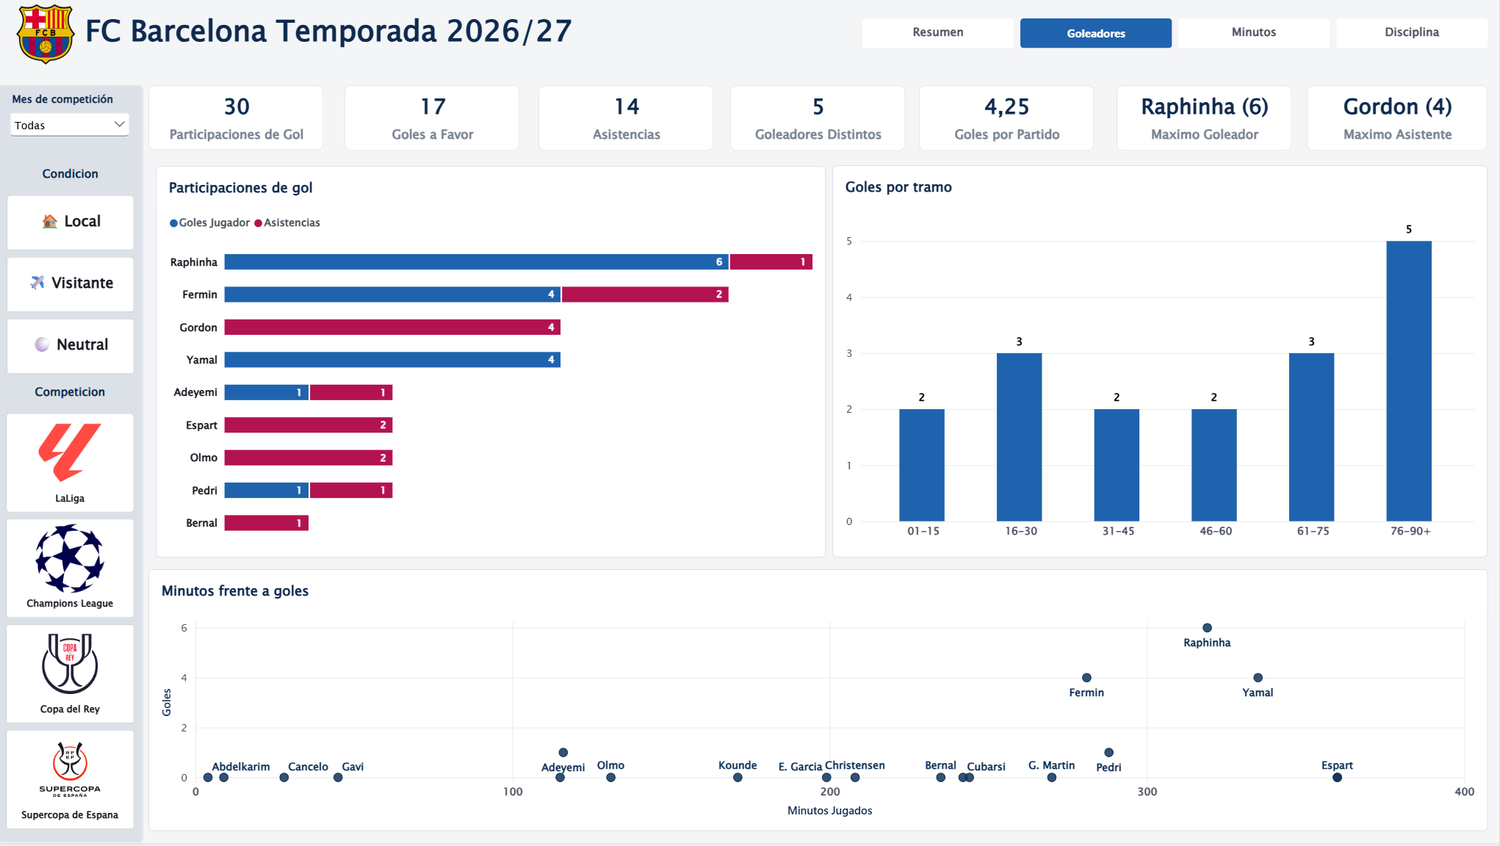

What the dashboard file says about the page in this screenshot:
{"tool":"powerbi","page":{"name":"Goleadores","canvas":[1920,1080],"ordinal":1},"visuals":[{"type":"shape","box":[0,110.8,185.7,968.7],"z":0},{"type":"cardVisual","fields":{"Data":["_Medidas.Goles a Favor"]},"box":[443.3,110.8,224.7,84.1],"z":2000},{"type":"cardVisual","fields":{"Data":["_Medidas.Participaciones de Gol"]},"box":[192.9,110.8,224.7,83.1],"z":3000},{"type":"cardVisual","fields":{"Data":["_Medidas.Asistencias"]},"box":[691.7,110.8,224.7,84.1],"z":4000},{"type":"cardVisual","fields":{"Data":["_Medidas.Goleadores Distintos"]},"box":[936.9,110.8,224.7,84.1],"z":5000},{"type":"cardVisual","fields":{"Data":["_Medidas.Goles por Partido"]},"box":[1178.1,110.8,224.7,84.1],"z":6000},{"type":"advancedSlicerVisual","fields":{"Values":["Dim_Competiciones.Competicion"]},"box":[10.3,492.6,164.2,572.6],"z":10000},{"type":"advancedSlicerVisual","fields":{"Values":["Dim_Partidos.CondicionIcono"]},"box":[11.3,213.4,163.2,267.8],"z":11000},{"type":"slicer","title":"Rango de fechas","fields":{"Values":["Dim_Calendario.MesLargo"]},"box":[10.3,118,163.2,75.9],"z":12000},{"type":"cardVisual","fields":{"Data":["_Medidas.Maximo Goleador"]},"box":[1430.5,110.8,224.7,84.1],"z":13000},{"type":"cardVisual","fields":{"Data":["_Medidas.Maximo Asistente"]},"box":[1673.7,110.8,231.9,84.1],"z":14000},{"type":"textbox","box":[111.3,13.1,742.7,61.8],"z":15000},{"type":"image","box":[11.2,5.6,100.3,80],"z":16000},{"type":"pageNavigator","box":[1105.2,25.7,800.4,39],"z":17000},{"type":"barChart","title":"Participaciones de gol","fields":{"Category":["Dim_Jugadores.NombreCorto"],"Y":["_Medidas.Goles Jugador","_Medidas.Asistencias"]},"box":[201.7,213.8,856.9,500.8],"z":17001},{"type":"clusteredColumnChart","title":"Goles por tramo","fields":{"Category":["Hechos_Eventos.Tramo"],"Y":["_Medidas.Goles a Favor"]},"box":[1067.2,213.4,837.9,501.5],"z":17002},{"type":"scatterChart","title":"Minutos frente a goles","fields":{"X":["_Medidas.Minutos Jugados"],"Y":["_Medidas.Goles con Cero"],"Category":["Dim_Jugadores.NombreCorto"]},"box":[192.9,729.6,1712.7,334.5],"z":17003}]}

Visuals, with their boxes in screenshot pixels (x1, y1, x2, y2), scaled from the page's 1920x1080 canvas onto the 1500x846 screenshot:
shape: x1=0 y1=87 x2=145 y2=845
cardVisual - _Medidas.Goles a Favor: x1=346 y1=87 x2=522 y2=153
cardVisual - _Medidas.Participaciones de Gol: x1=151 y1=87 x2=326 y2=152
cardVisual - _Medidas.Asistencias: x1=540 y1=87 x2=716 y2=153
cardVisual - _Medidas.Goleadores Distintos: x1=732 y1=87 x2=907 y2=153
cardVisual - _Medidas.Goles por Partido: x1=920 y1=87 x2=1096 y2=153
advancedSlicerVisual - Dim_Competiciones.Competicion: x1=8 y1=386 x2=136 y2=834
advancedSlicerVisual - Dim_Partidos.CondicionIcono: x1=9 y1=167 x2=136 y2=377
"Rango de fechas" slicer: x1=8 y1=92 x2=136 y2=152
cardVisual - _Medidas.Maximo Goleador: x1=1118 y1=87 x2=1293 y2=153
cardVisual - _Medidas.Maximo Asistente: x1=1308 y1=87 x2=1489 y2=153
textbox: x1=87 y1=10 x2=667 y2=59
image: x1=9 y1=4 x2=87 y2=67
pageNavigator: x1=863 y1=20 x2=1489 y2=51
"Participaciones de gol" barChart: x1=158 y1=167 x2=827 y2=560
"Goles por tramo" clusteredColumnChart: x1=834 y1=167 x2=1488 y2=560
"Minutos frente a goles" scatterChart: x1=151 y1=572 x2=1489 y2=834
